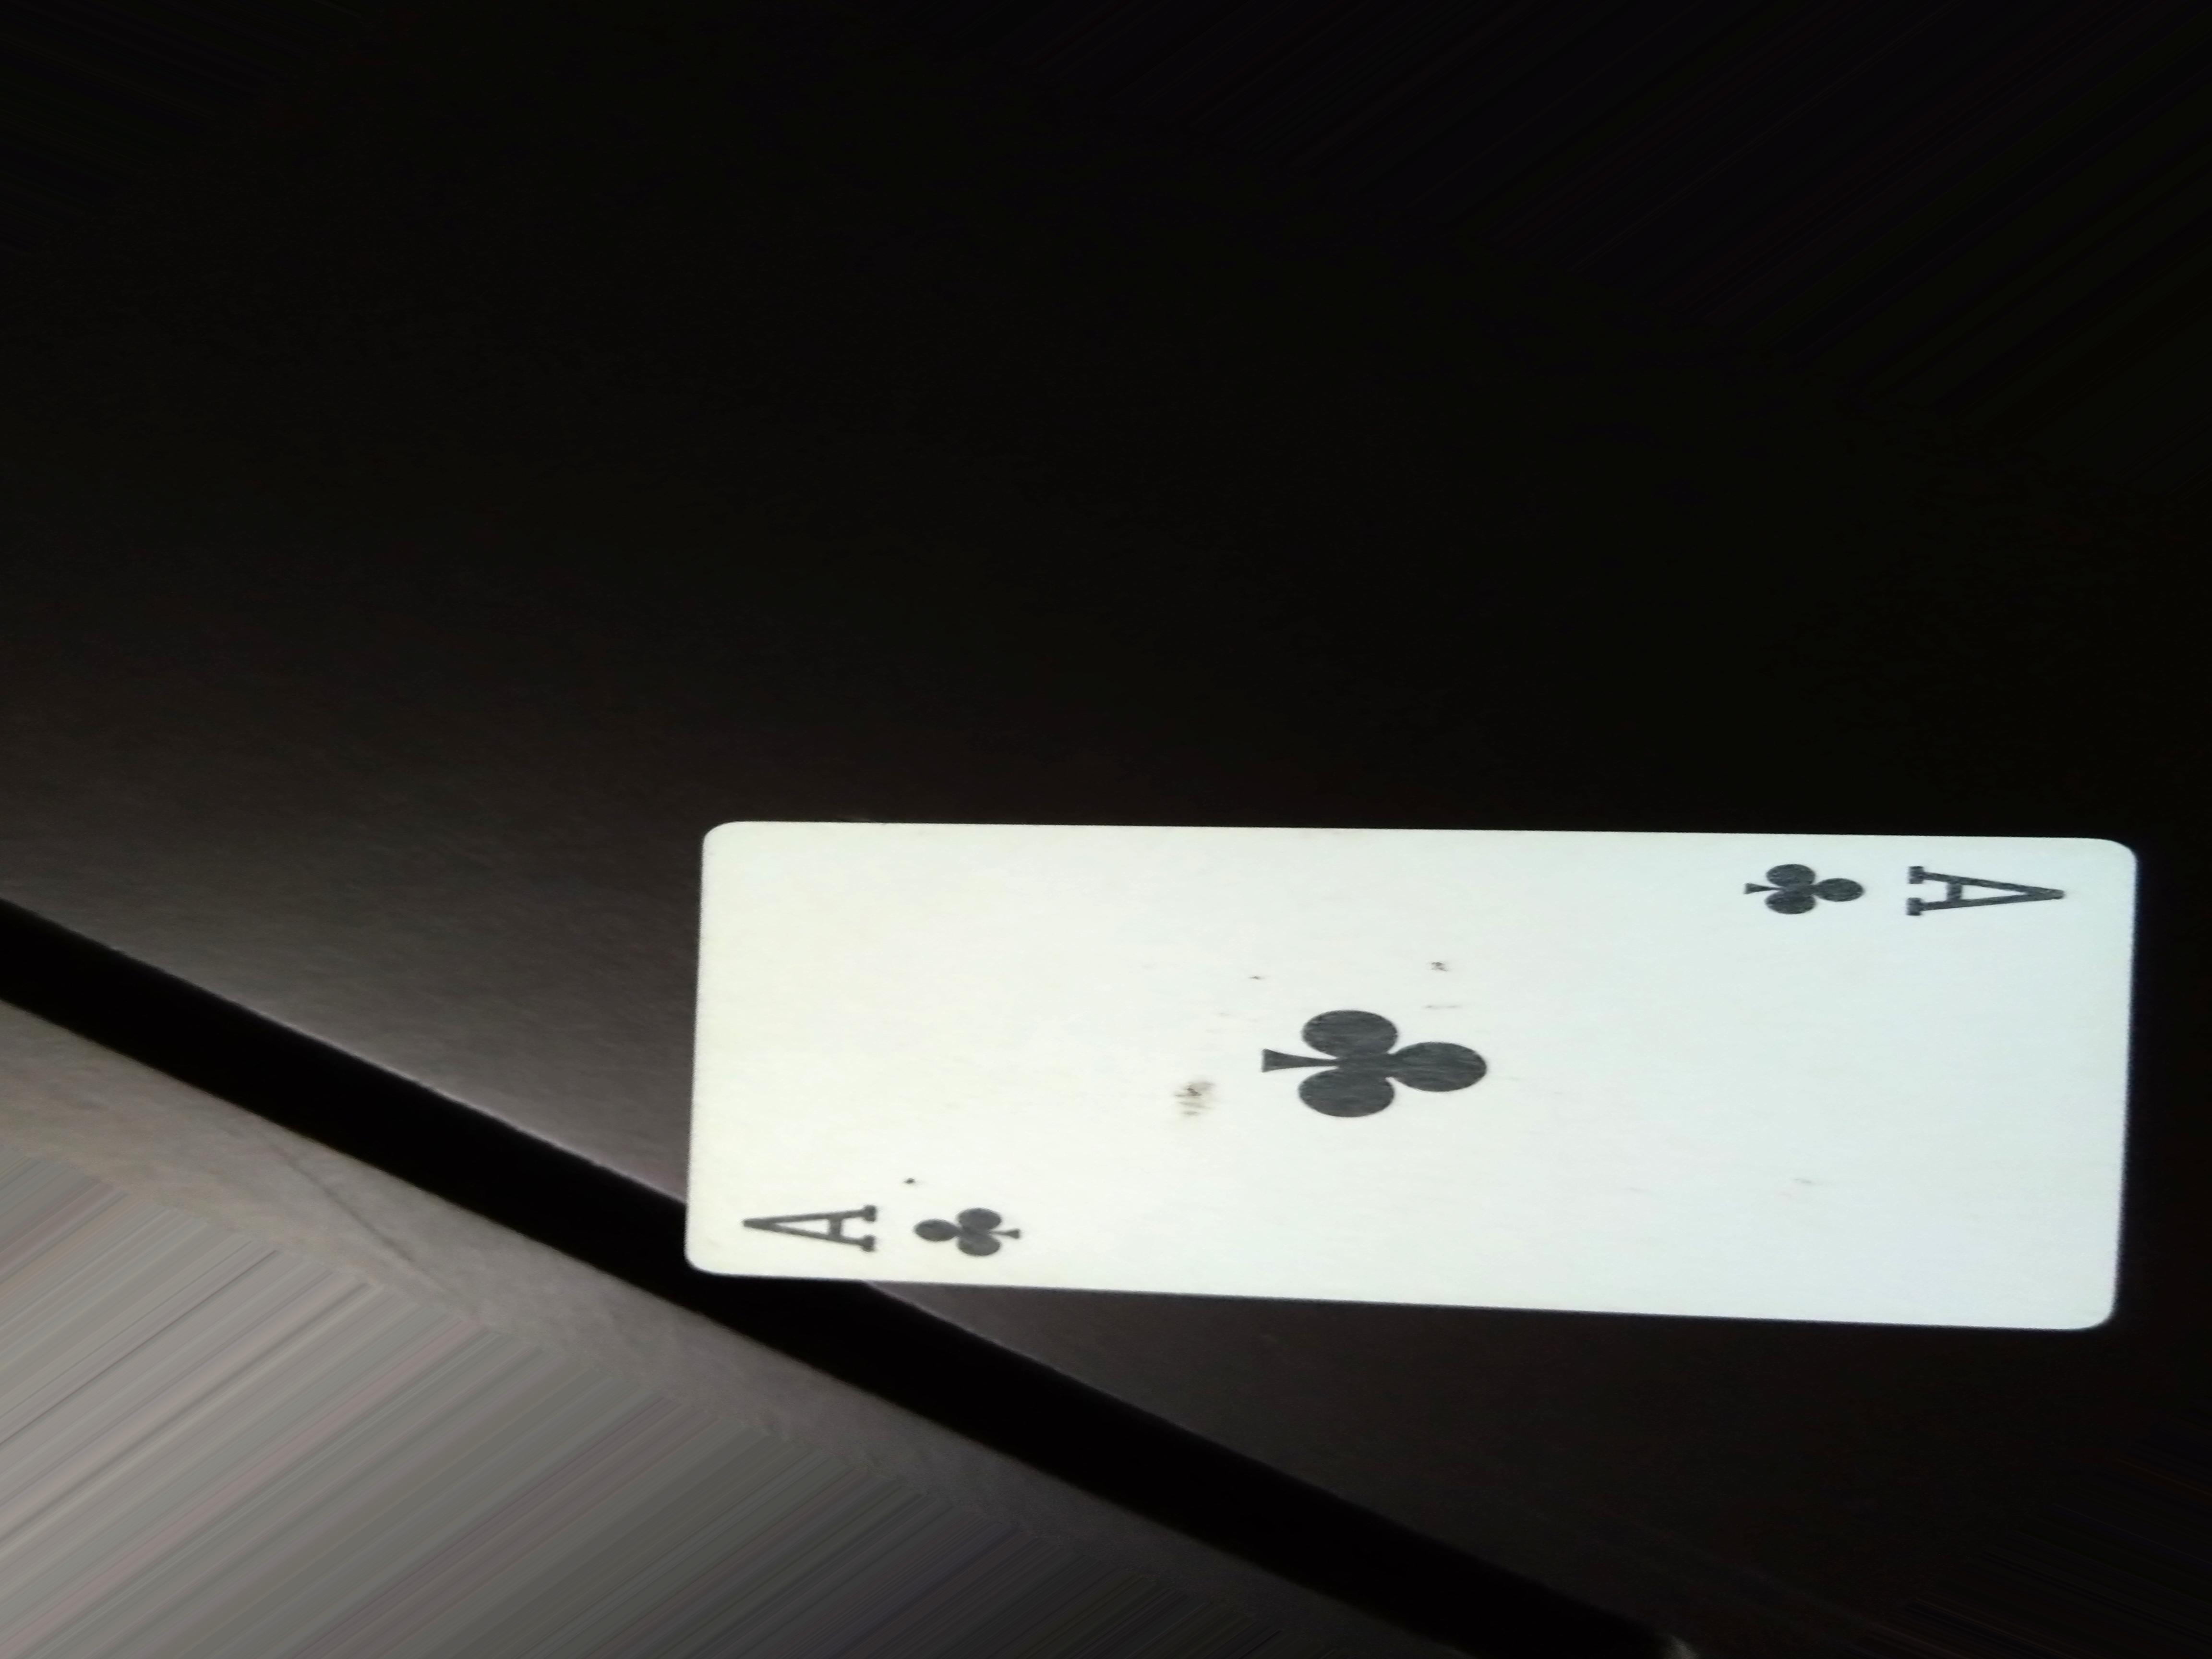AC: (1721, 847, 2101, 945)
